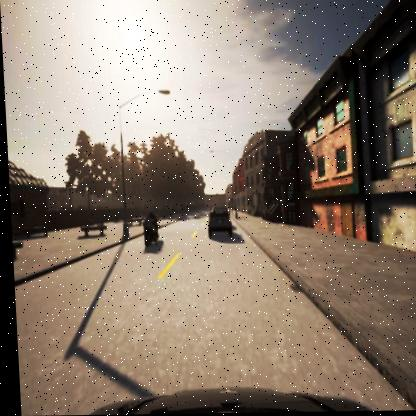motobike: (139, 212, 158, 246)
vehicle: (204, 208, 230, 239)
